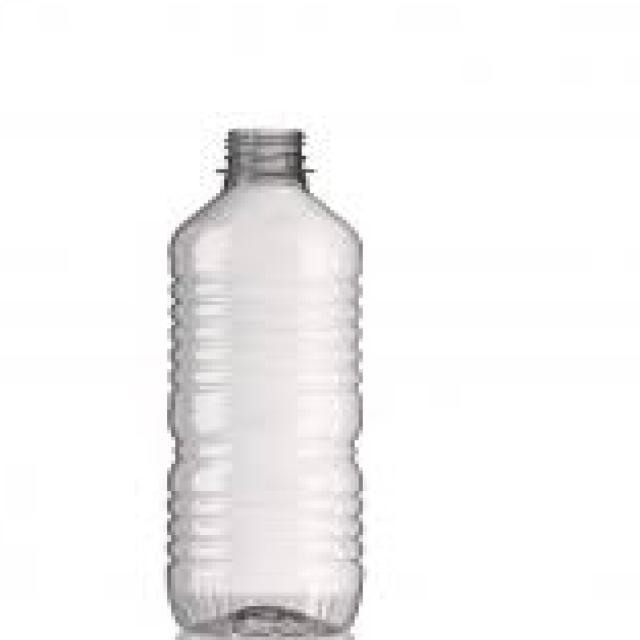organic: (148, 120, 394, 618)
